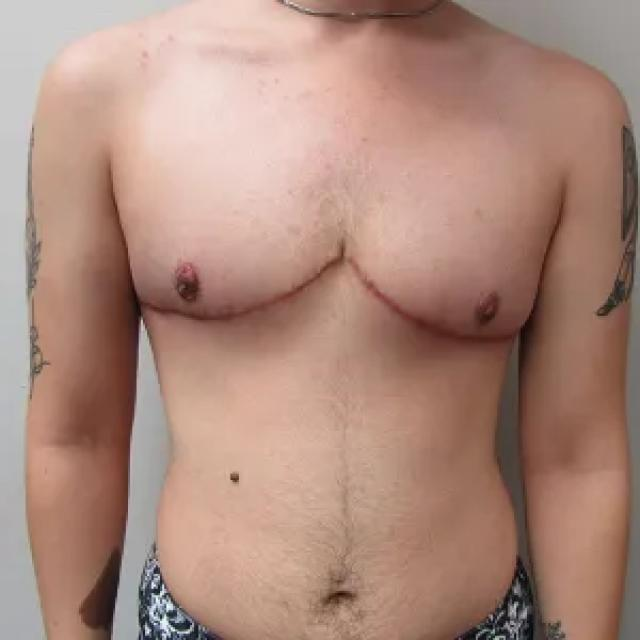Seno herido: (346, 164, 554, 361), (121, 166, 344, 340)
